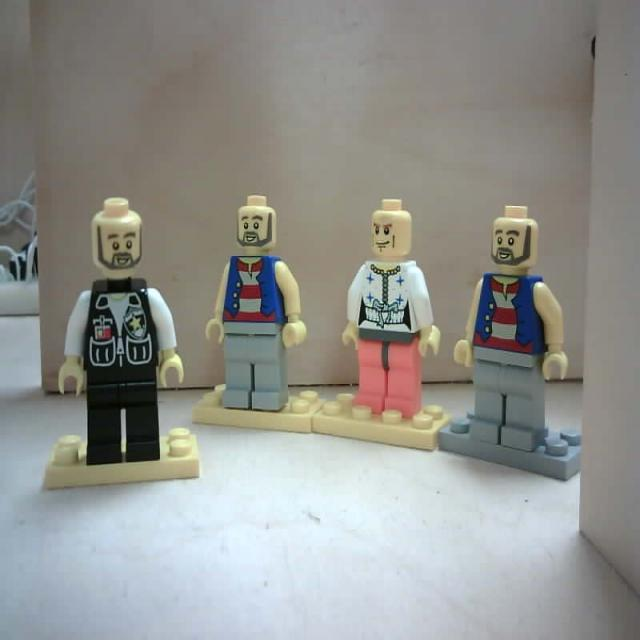Lego-People: (36, 192, 205, 498), (436, 202, 592, 487), (307, 194, 454, 458), (189, 191, 331, 437)
